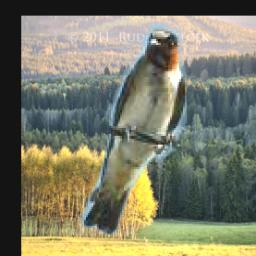Swallow: (78, 23, 187, 235)
